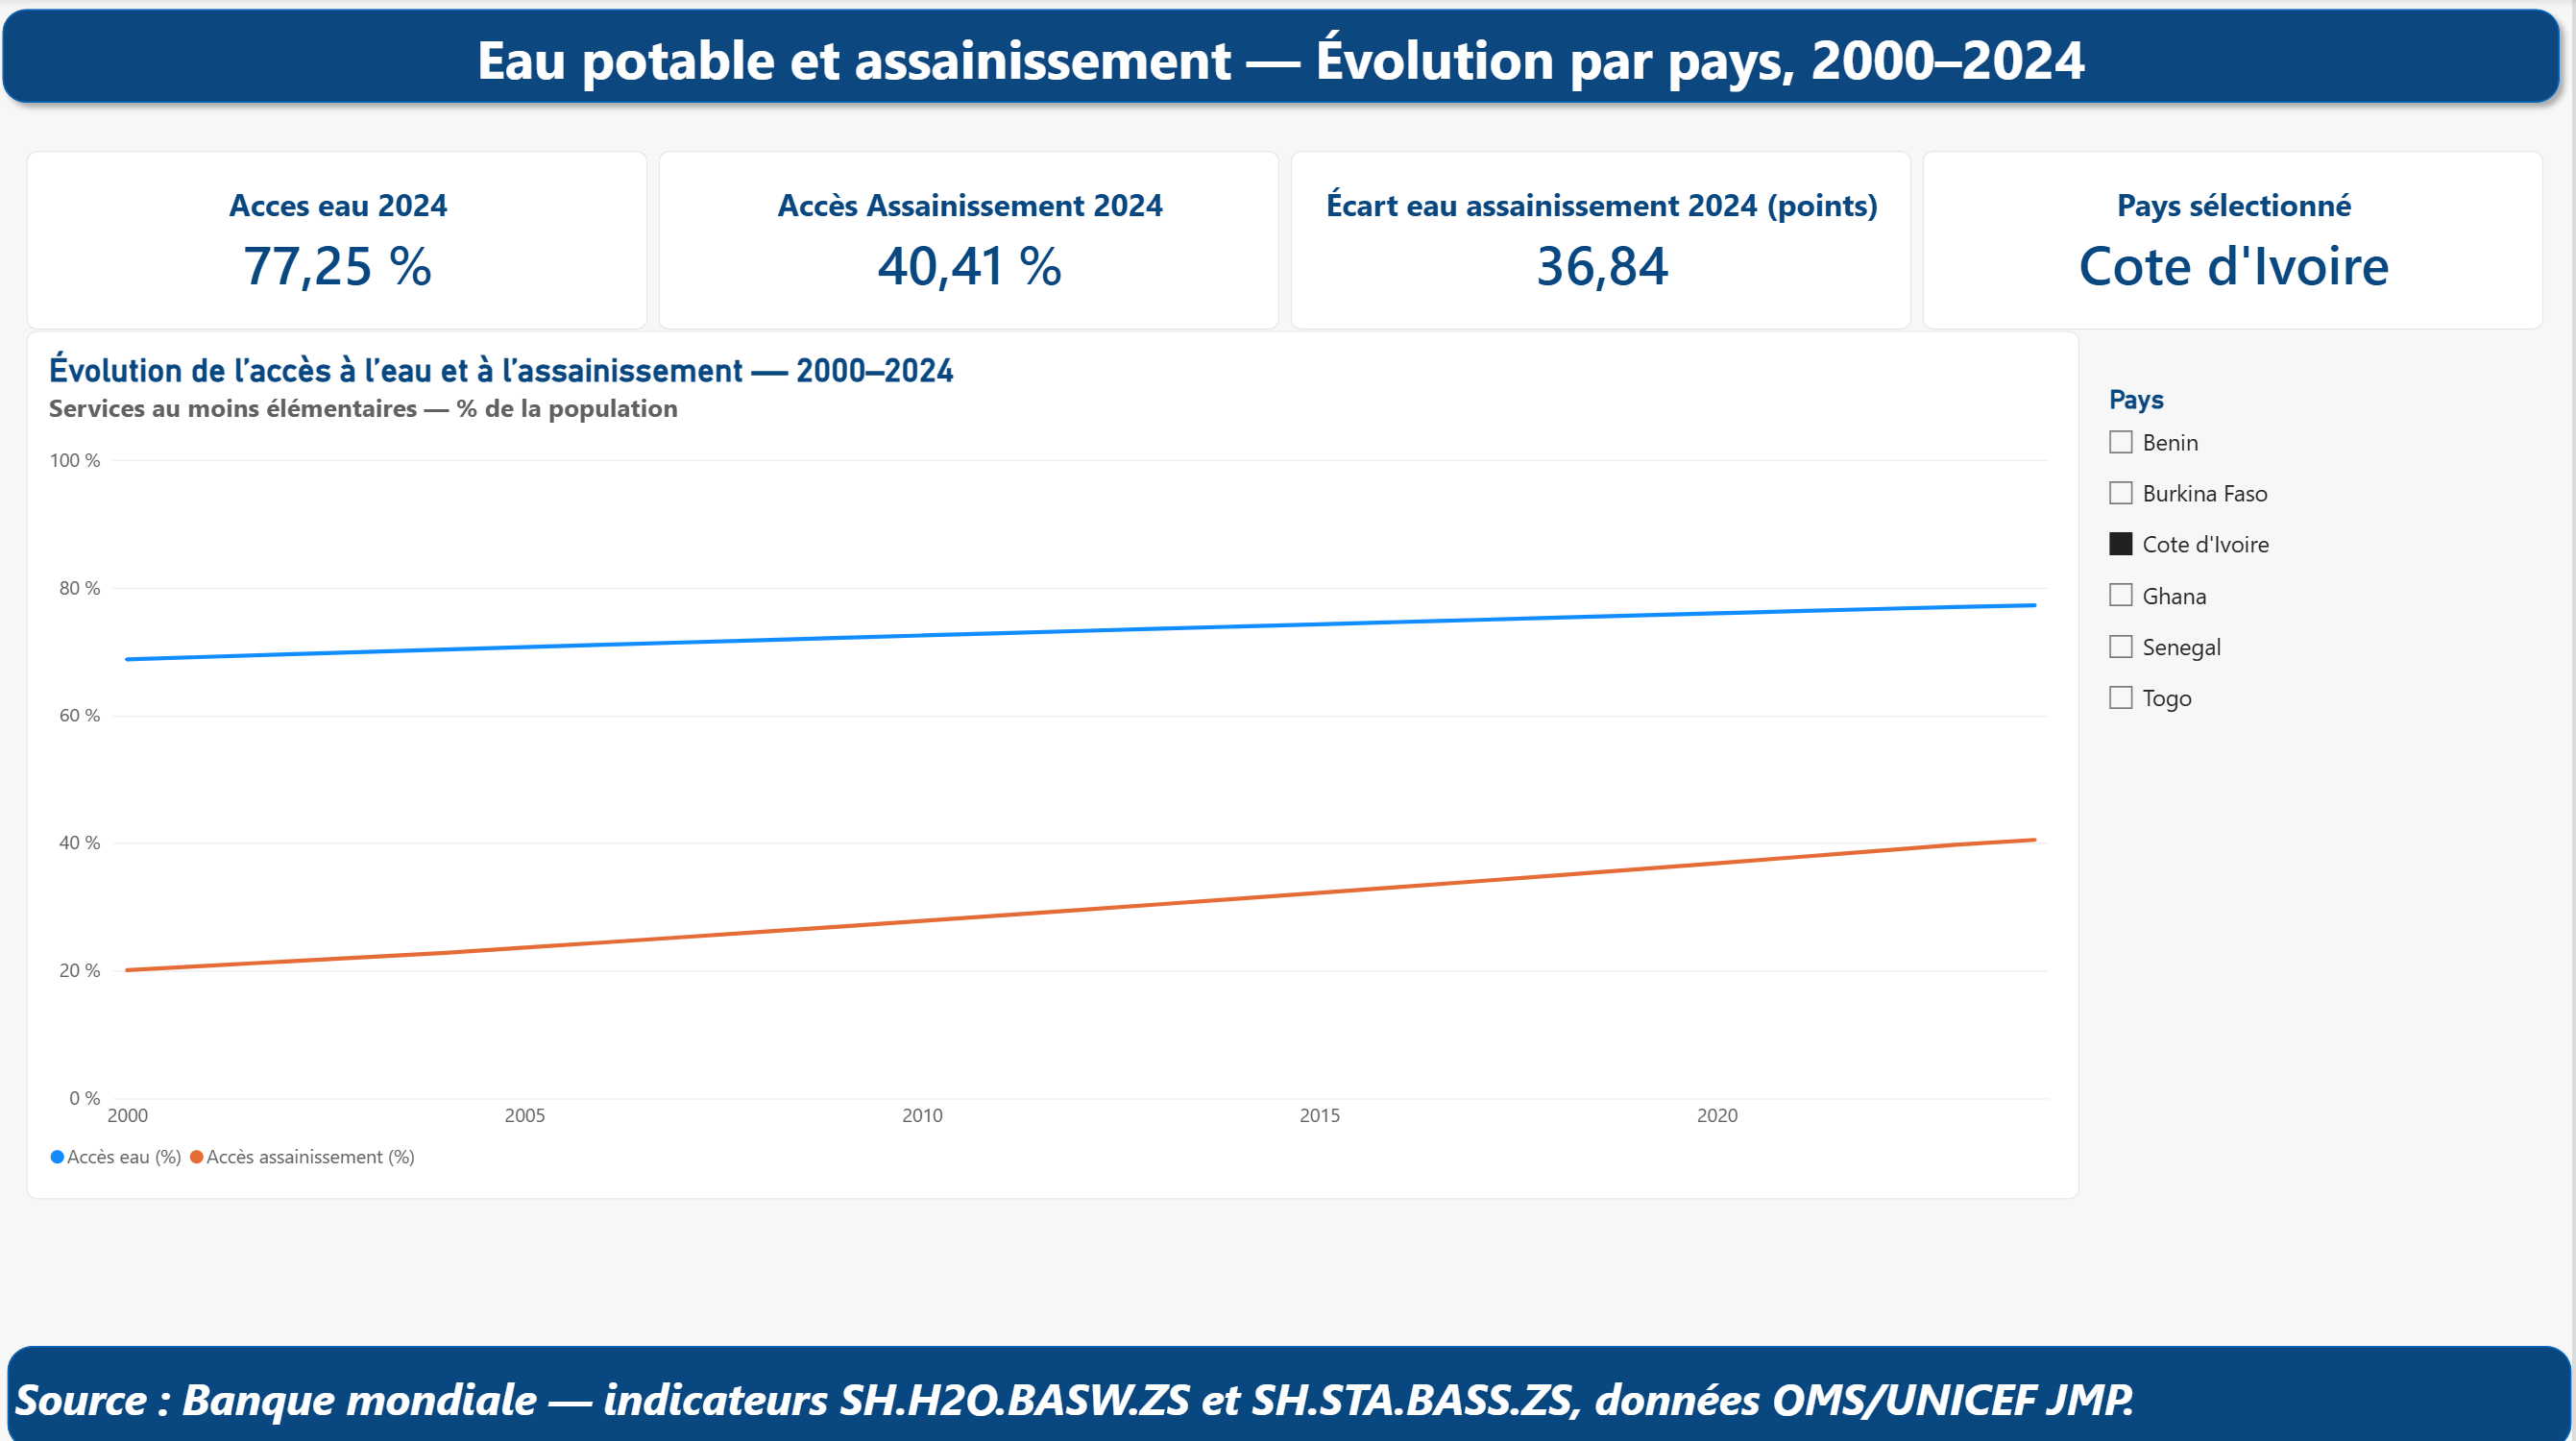

Layout of this report page (visuals, bound fields, positions):
{"tool":"powerbi","page":{"name":"Evolution par pays","canvas":[1920,1080],"ordinal":2},"visuals":[{"type":"lineChart","title":"Évolution de l’accès à l’eau et à l’assainissement — 2000–2024","fields":{"Category":["Eau_Assainissemen.Année"],"Y":["Eau_Assainissemen.Accès eau (%)","Eau_Assainissemen.Accès assainissement (%)"]},"box":[26.8,248.2,1526.8,646.4],"z":0},{"type":"slicer","fields":{"Values":["Eau_Assainissemen.Pays"]},"box":[1567.9,287.5,176.8,278.6],"z":1000},{"type":"cardVisual","fields":{"Data":["Eau_Assainissemen.Acces eau 2024","Eau_Assainissemen.Accès Assainissement 2024","Eau_Assainissemen.Écart eau assainissement 2024 (points)","Eau_Assainissemen.Pays sélectionné"]},"box":[26.8,114.3,1875,133.9],"z":2000},{"type":"shape","box":[12.5,1003.6,1907.2,76.8],"z":3000},{"type":"shape","box":[0,0,1919.7,87.5],"z":4000}]}

Visuals, with their boxes in screenshot pixels (x1, y1, x2, y2), scaled from the page's 1920x1080 canvas onto the 2576x1441 screenshot:
"Évolution de l’accès à l’eau et à l’assainissement — 2000–2024" lineChart: bbox=[36, 331, 2084, 1193]
slicer - Eau_Assainissemen.Pays: bbox=[2103, 383, 2341, 755]
cardVisual - Eau_Assainissemen.Acces eau 2024 x Eau_Assainissemen.Accès Assainissement 2024: bbox=[36, 153, 2552, 331]
shape: bbox=[16, 1339, 2575, 1440]
shape: bbox=[0, 0, 2575, 117]
